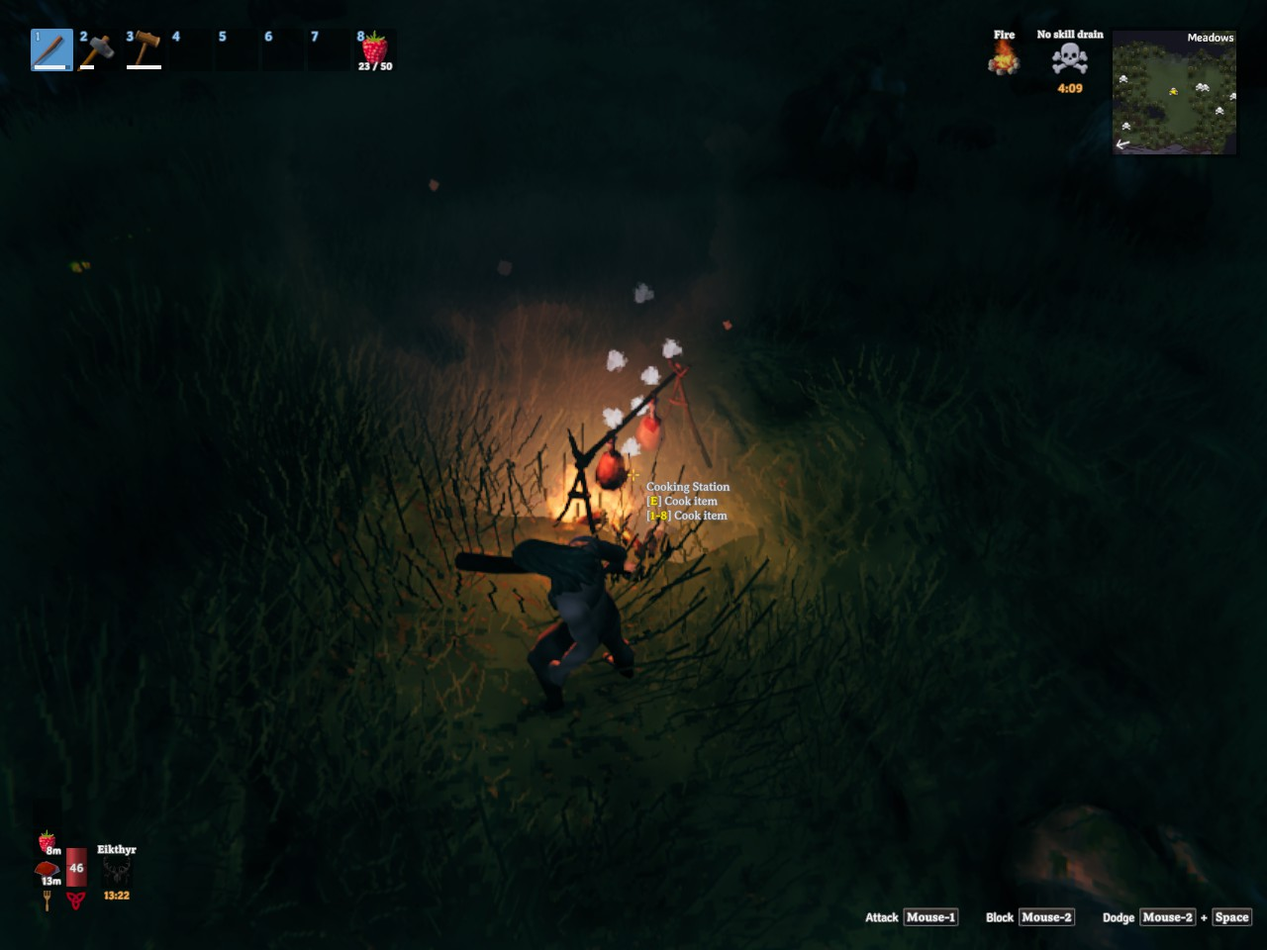Club: (455, 552, 527, 572)
Cook Station: (555, 357, 712, 532)
Food Indicator: (35, 830, 60, 885)
Health Bar: (65, 847, 87, 888)
Hotbar: (28, 19, 434, 77)
Status Indicator: (1033, 18, 1104, 74), (988, 30, 1023, 75)
